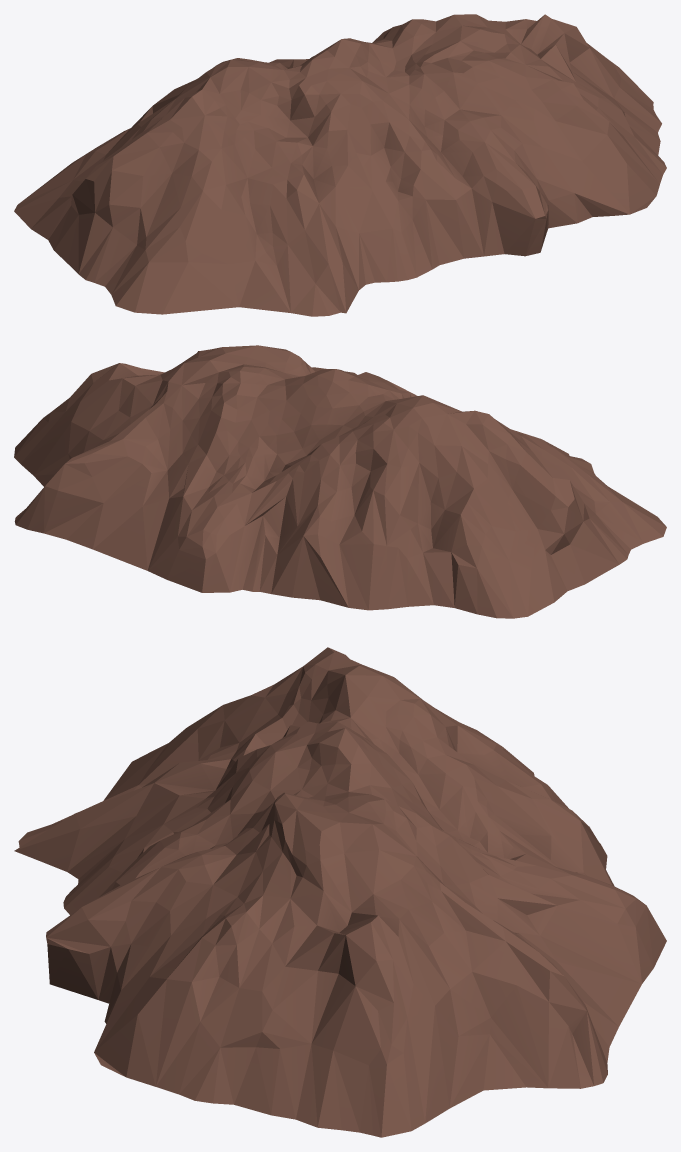
File: mountain_007.glb
3 renders of one model, top to bottom at view 1: azimuth 30°, elevation 25°; view 2: azimuth 150°, elevation 25°; view 3: azimuth 270°, elevation 25°, orthographic. The views are drawn at different scales.
Visible parts, largest first — view 1: mountain_007; view 2: mountain_007; view 3: mountain_007.
Boxes of the visible parts, x1=… form: mountain_007: x1=14, y1=14, x2=666, y2=316; mountain_007: x1=14, y1=345, x2=666, y2=618; mountain_007: x1=14, y1=647, x2=666, y2=1137.
Size of the model in its own units: 544 by 129 by 382.
Materials: 1 (1 with a texture image).
